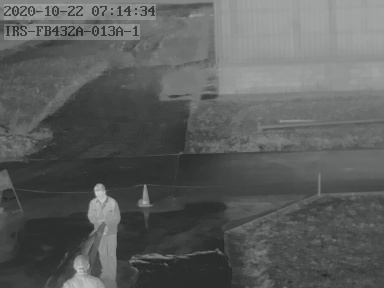person: (88, 183, 121, 287)
